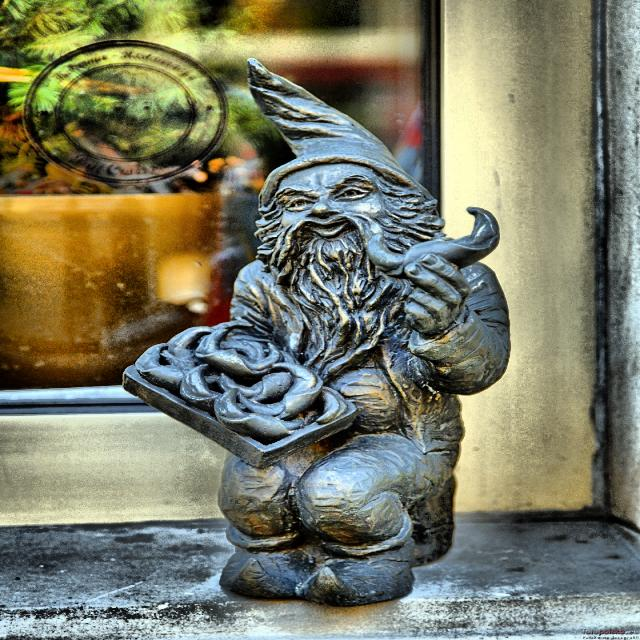Rogalik: (119, 59, 510, 608)
